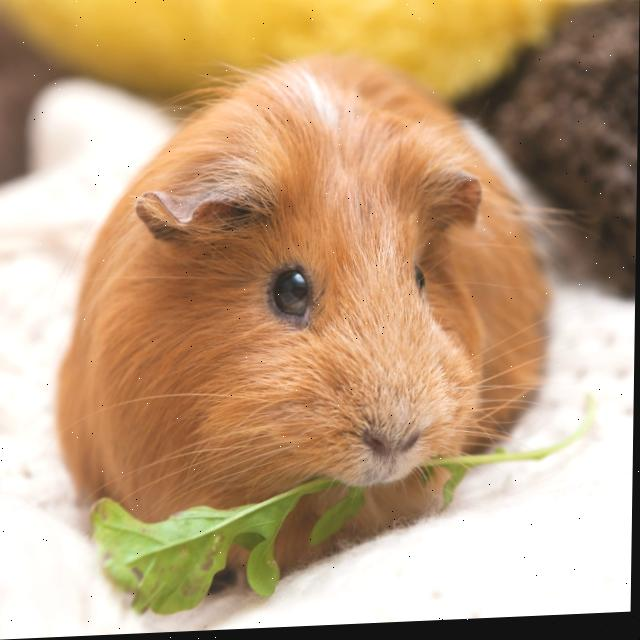guinea pig: (57, 60, 555, 583)
